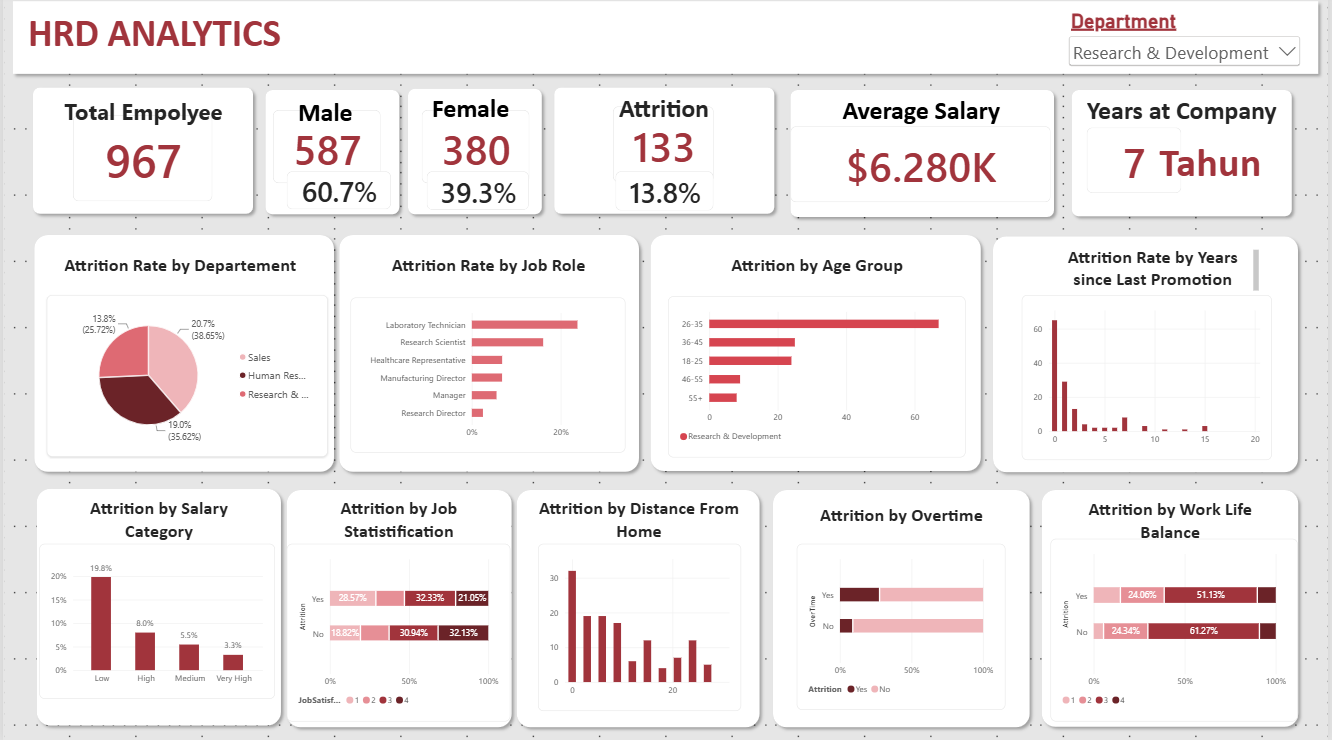

This screenshot's page, from the dashboard's own definition file:
{"tool":"powerbi","page":{"name":"Overview","canvas":[1920,1080],"ordinal":0},"visuals":[{"type":"shape","box":[1426,340,460,360],"z":0},{"type":"shape","box":[477.4,337.9,452.4,361.2],"z":1000},{"type":"shape","box":[5.4,0,1909.1,123.2],"z":2000},{"type":"textbox","box":[36.2,19.9,402.1,83.3],"z":3000},{"type":"textbox","box":[5.4,201.1,288,150.3],"z":4000},{"type":"shape","box":[35.8,337.9,452.4,361.2],"z":5000},{"type":"shape","box":[372,128,212,198],"z":6000},{"type":"shape","box":[790,125,336.9,201.1],"z":7000},{"type":"shape","box":[1132,128,400,202],"z":8000},{"type":"shape","box":[1540,128,336.9,201.1],"z":9000},{"type":"shape","box":[35,125,336.9,201.1],"z":10000},{"type":"slicer","fields":{"Values":["HR_Analytics.Department"]},"box":[1540,20,345,86.7],"z":11000},{"type":"shape","box":[930,338.3,496.7,360],"z":12000},{"type":"shape","box":[39.3,706.3,371.9,361.2],"z":13000},{"type":"shape","box":[402,708,344,362],"z":14000},{"type":"cardVisual","fields":{"Data":["All Measures.TotalEmp"]},"box":[102,174,202.5,125],"z":15000},{"type":"textbox","box":[83.8,146.2,240,55],"z":16000},{"type":"cardVisual","fields":{"Data":["All Measures.Male"]},"box":[392,166,156.7,106.7],"z":17000},{"type":"cardVisual","fields":{"Data":["All Measures.Attiration"]},"box":[884,162,146,110],"z":18000},{"type":"textbox","box":[790,142,336,54],"z":19000},{"type":"textbox","box":[428,146,91.4,50],"z":20000},{"type":"cardVisual","fields":{"Data":["All Measures.% Male"]},"box":[411.2,255.7,152,55.4],"z":21000},{"type":"shape","box":[578,126,212,200],"z":22000},{"type":"cardVisual","fields":{"Data":["All Measures.Female"]},"box":[606,166,156.7,106.7],"z":23000},{"type":"cardVisual","fields":{"Data":["All Measures.% Female"]},"box":[614,256,148,56],"z":24000},{"type":"textbox","box":[622,142,124,50],"z":25000},{"type":"cardVisual","fields":{"Data":["All Measures.% Attrition"]},"box":[887.5,255,142.5,57.5],"z":26000},{"type":"cardVisual","fields":{"Data":["All Measures.Average Salary"]},"box":[1142,190,377.5,110],"z":27000},{"type":"cardVisual","fields":{"Data":["All Measures.Average Tenure"]},"box":[1570,192,137.5,95],"z":28000},{"type":"textbox","box":[1676,206,172.5,75],"z":29000},{"type":"textbox","box":[1214,144,234,62],"z":30000},{"type":"textbox","box":[1570,144,300,46],"z":31000},{"type":"pieChart","fields":{"Category":["HR_Analytics.Department"],"Y":["All Measures.% Attrition"]},"box":[62.6,434.5,407.1,234.3],"z":32000},{"type":"barChart","fields":{"Category":["HR_Analytics.AgeGroup"],"Series":["HR_Analytics.Department"],"Y":["All Measures.Attiration"]},"box":[963.3,436.7,431.2,233.8],"z":33000},{"type":"barChart","fields":{"Category":["HR_Analytics.JobRole"],"Y":["All Measures.% Attrition"]},"box":[504.4,438.9,398.3,225],"z":34000},{"type":"clusteredColumnChart","fields":{"Category":["HR_Analytics.YearsAtCompany (bins)"],"Y":["All Measures.TotalEmp"]},"box":[1475.5,434.5,362.7,239.1],"z":35000},{"type":"clusteredColumnChart","fields":{"Category":["HR_Analytics.SalaryCategory"],"Y":["All Measures.% Attrition"]},"box":[52,796,341.2,225],"z":36000},{"type":"shape","box":[736,708,370,362],"z":37000},{"type":"clusteredColumnChart","fields":{"Category":["HR_Analytics.DistanceFromHome (bins)"],"Y":["All Measures.Attiration"]},"box":[775.6,795.6,294.4,242.2],"z":38000},{"type":"shape","box":[1106,708,390,362],"z":39000},{"type":"shape","box":[1496,708,389.8,361.2],"z":40000},{"type":"clusteredColumnChart","fields":{"Category":["HR_Analytics.Department"],"Series":["HR_Analytics.JobSatisfaction (bins)"],"Y":["All Measures.Attiration"]},"box":[424.4,795.6,300,240],"z":41000},{"type":"hundredPercentStackedBarChart","fields":{"Category":["HR_Analytics.OverTime"],"Series":["HR_Analytics.Attrition"],"Y":["All Measures.TotalEmp"]},"box":[1150,795.6,302.2,241.1],"z":42000},{"type":"clusteredColumnChart","fields":{"Category":["HR_Analytics.Department"],"Series":["HR_Analytics.WorkLifeBalance (bins)"],"Y":["All Measures.Attiration"]},"box":[1538,810,300,226],"z":43000},{"type":"textbox","box":[88.9,374.4,380,37.8],"z":44000},{"type":"textbox","box":[563.3,374.4,300,44.4],"z":45000},{"type":"textbox","box":[990,374.4,377.8,45.6],"z":46000},{"type":"textbox","box":[1520,365.6,300,62.2],"z":47000},{"type":"textbox","box":[75.6,726.7,300,68.9],"z":48000},{"type":"textbox","box":[424.4,726.7,300,68.9],"z":49000},{"type":"textbox","box":[1152.2,736.7,300,50],"z":50000},{"type":"textbox","box":[771.1,726.7,300,68.9],"z":51000},{"type":"textbox","box":[1541.1,727.8,300,68.9],"z":52000}]}

Visuals, with their boxes in screenshot pixels (x1, y1, x2, y2), scaled from the page's 1920x1080 canvas onto the 1332x740 screenshot:
shape: box=[989, 233, 1308, 480]
shape: box=[331, 232, 645, 479]
shape: box=[4, 0, 1328, 84]
textbox: box=[25, 14, 304, 71]
textbox: box=[4, 138, 204, 241]
shape: box=[25, 232, 339, 479]
shape: box=[258, 88, 405, 223]
shape: box=[548, 86, 782, 223]
shape: box=[785, 88, 1063, 226]
shape: box=[1068, 88, 1302, 225]
shape: box=[24, 86, 258, 223]
slicer - HR_Analytics.Department: box=[1068, 14, 1308, 73]
shape: box=[645, 232, 990, 478]
shape: box=[27, 484, 285, 731]
shape: box=[279, 485, 518, 733]
cardVisual - All Measures.TotalEmp: box=[71, 119, 211, 205]
textbox: box=[58, 100, 225, 138]
cardVisual - All Measures.Male: box=[272, 114, 381, 187]
cardVisual - All Measures.Attiration: box=[613, 111, 715, 186]
textbox: box=[548, 97, 781, 134]
textbox: box=[297, 100, 360, 134]
cardVisual - All Measures.% Male: box=[285, 175, 391, 213]
shape: box=[401, 86, 548, 223]
cardVisual - All Measures.Female: box=[420, 114, 529, 187]
cardVisual - All Measures.% Female: box=[426, 175, 529, 214]
textbox: box=[432, 97, 518, 132]
cardVisual - All Measures.% Attrition: box=[616, 175, 715, 214]
cardVisual - All Measures.Average Salary: box=[792, 130, 1054, 206]
cardVisual - All Measures.Average Tenure: box=[1089, 132, 1185, 197]
textbox: box=[1163, 141, 1282, 193]
textbox: box=[842, 99, 1005, 141]
textbox: box=[1089, 99, 1297, 130]
pieChart - HR_Analytics.Department x All Measures.% Attrition: box=[43, 298, 326, 458]
barChart - HR_Analytics.AgeGroup x HR_Analytics.Department: box=[668, 299, 967, 459]
barChart - HR_Analytics.JobRole x All Measures.% Attrition: box=[350, 301, 626, 455]
clusteredColumnChart - HR_Analytics.YearsAtCompany (bins) x All Measures.TotalEmp: box=[1024, 298, 1275, 462]
clusteredColumnChart - HR_Analytics.SalaryCategory x All Measures.% Attrition: box=[36, 545, 273, 700]
shape: box=[511, 485, 767, 733]
clusteredColumnChart - HR_Analytics.DistanceFromHome (bins) x All Measures.Attiration: box=[538, 545, 742, 711]
shape: box=[767, 485, 1038, 733]
shape: box=[1038, 485, 1308, 733]
clusteredColumnChart - HR_Analytics.Department x HR_Analytics.JobSatisfaction (bins): box=[294, 545, 503, 710]
hundredPercentStackedBarChart - HR_Analytics.OverTime x HR_Analytics.Attrition: box=[798, 545, 1007, 710]
clusteredColumnChart - HR_Analytics.Department x HR_Analytics.WorkLifeBalance (bins): box=[1067, 555, 1275, 710]
textbox: box=[62, 257, 325, 282]
textbox: box=[391, 257, 599, 287]
textbox: box=[687, 257, 949, 288]
textbox: box=[1054, 251, 1263, 293]
textbox: box=[52, 498, 261, 545]
textbox: box=[294, 498, 503, 545]
textbox: box=[799, 505, 1007, 539]
textbox: box=[535, 498, 743, 545]
textbox: box=[1069, 499, 1277, 546]
